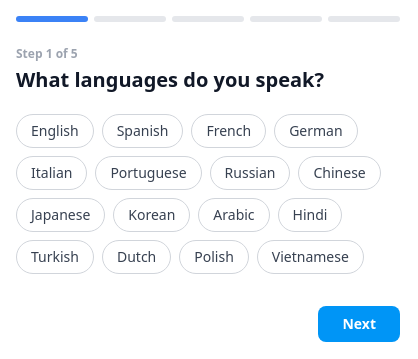
Onboarding Component › advances to the learning-language step once a native language is picked
The width and height of the screenshot is (418, 359).
Click the button "English" at (55, 131), box [16, 114, 94, 148]
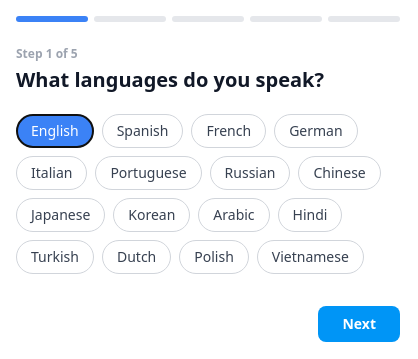
Click the button "Next" at (359, 324), box [318, 306, 400, 342]
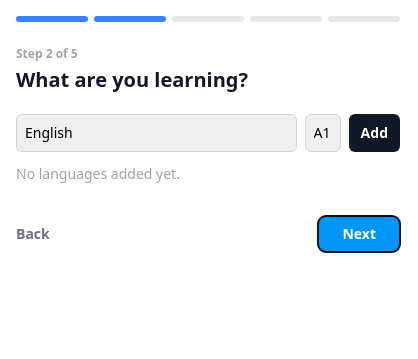
Result: the heading "What are you learning?" is shown at [16, 66, 248, 93]
